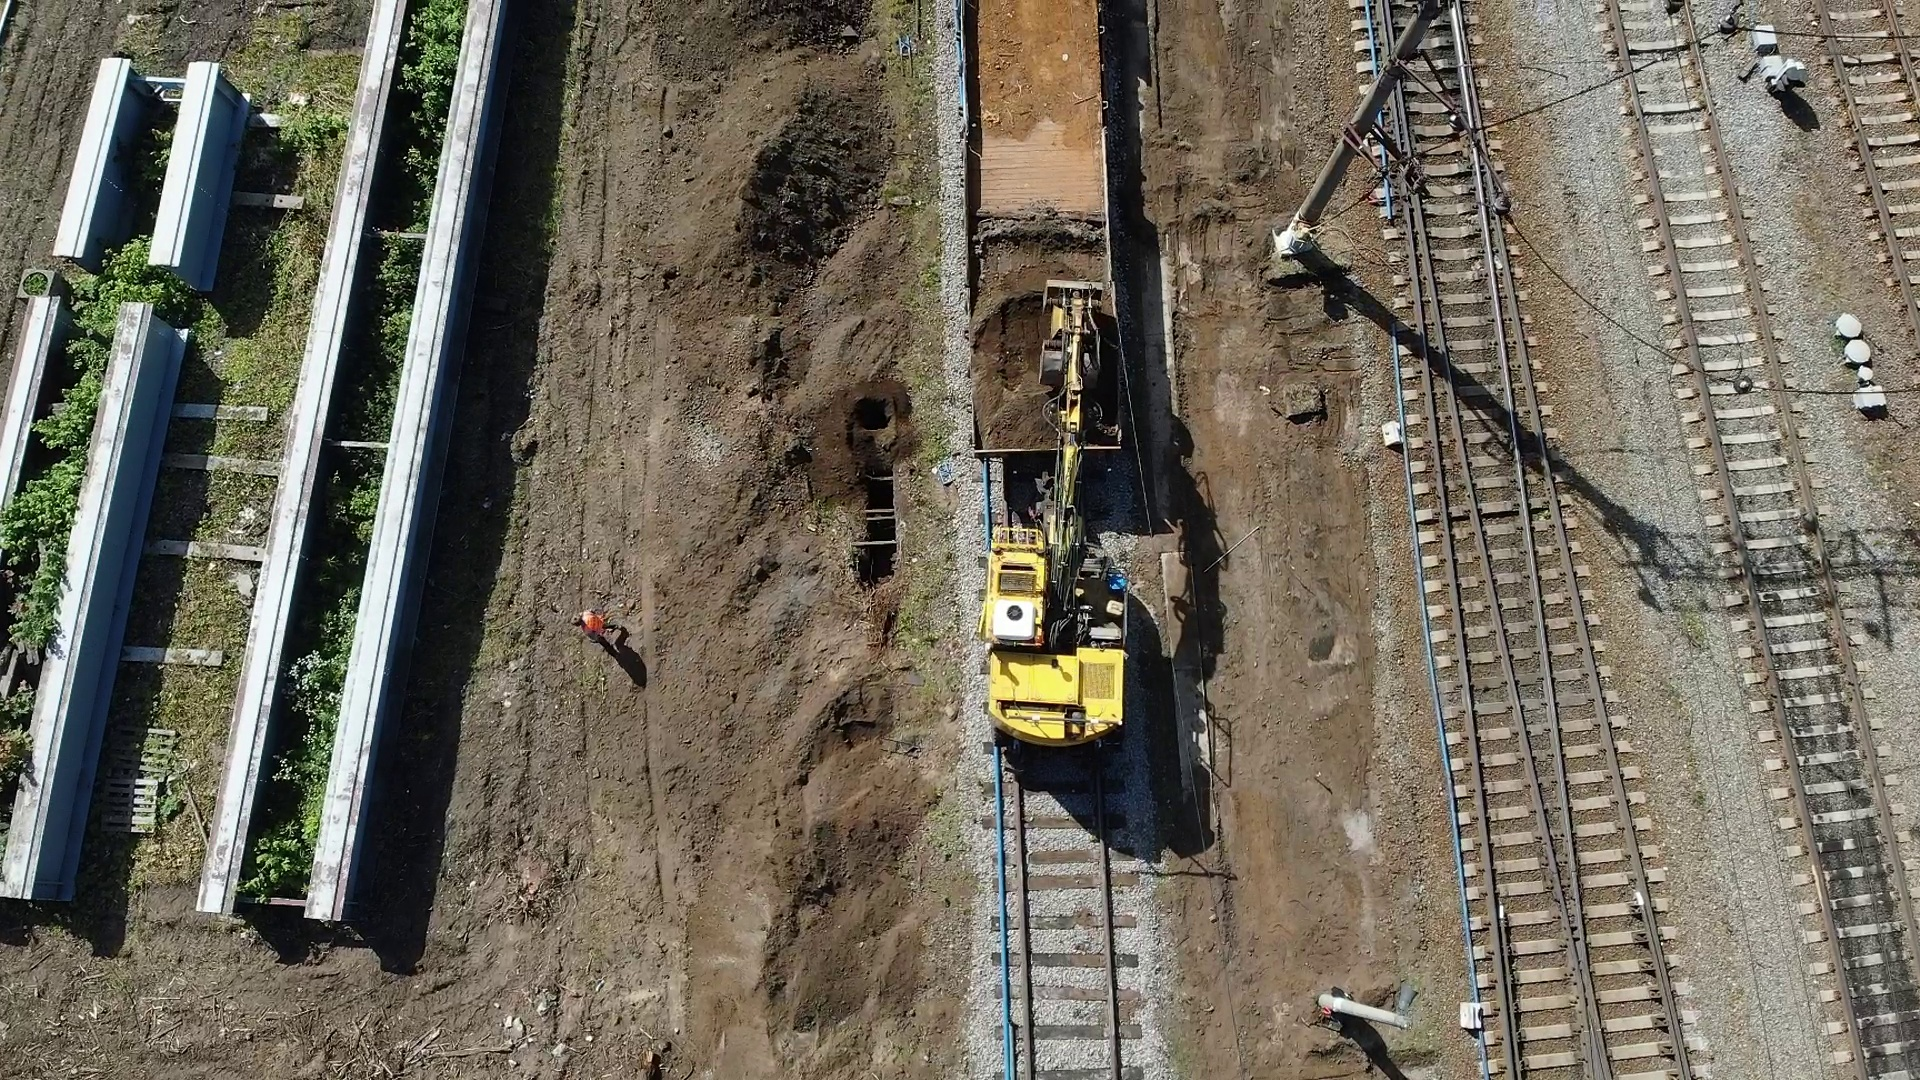kjtv: (975, 372, 1133, 752)
